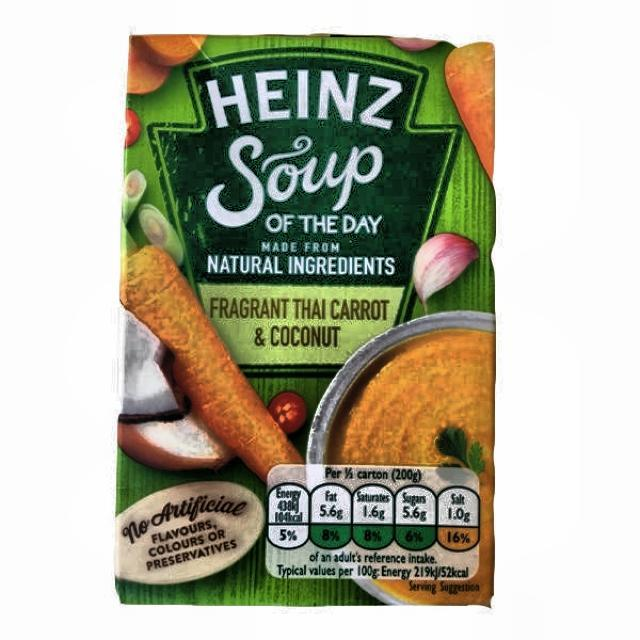cardboard: (115, 33, 497, 606)
